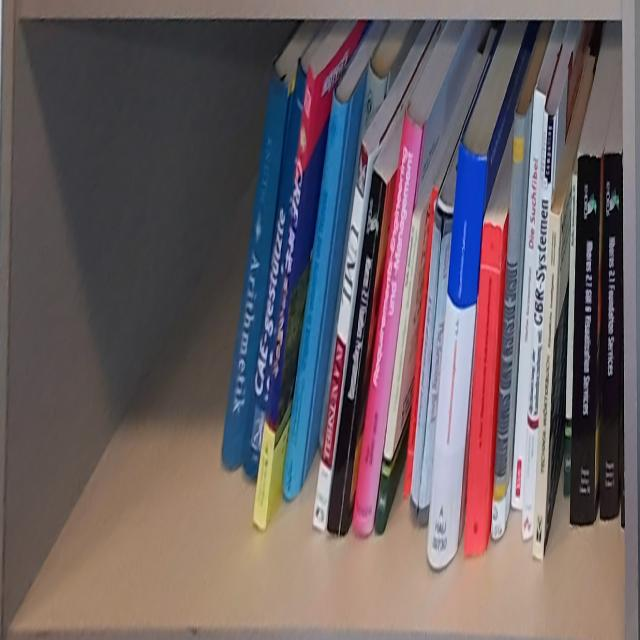Book Spine: (352, 113, 425, 536), (280, 88, 352, 501), (254, 64, 316, 532), (221, 64, 291, 473), (244, 57, 308, 483), (425, 142, 487, 571), (325, 171, 388, 536), (312, 141, 370, 534), (509, 89, 546, 512), (490, 110, 526, 541), (521, 109, 556, 541), (374, 217, 421, 536), (464, 225, 504, 561), (570, 158, 601, 524), (530, 212, 562, 566), (417, 224, 453, 526), (410, 211, 443, 520), (599, 154, 621, 523), (562, 174, 577, 497)
